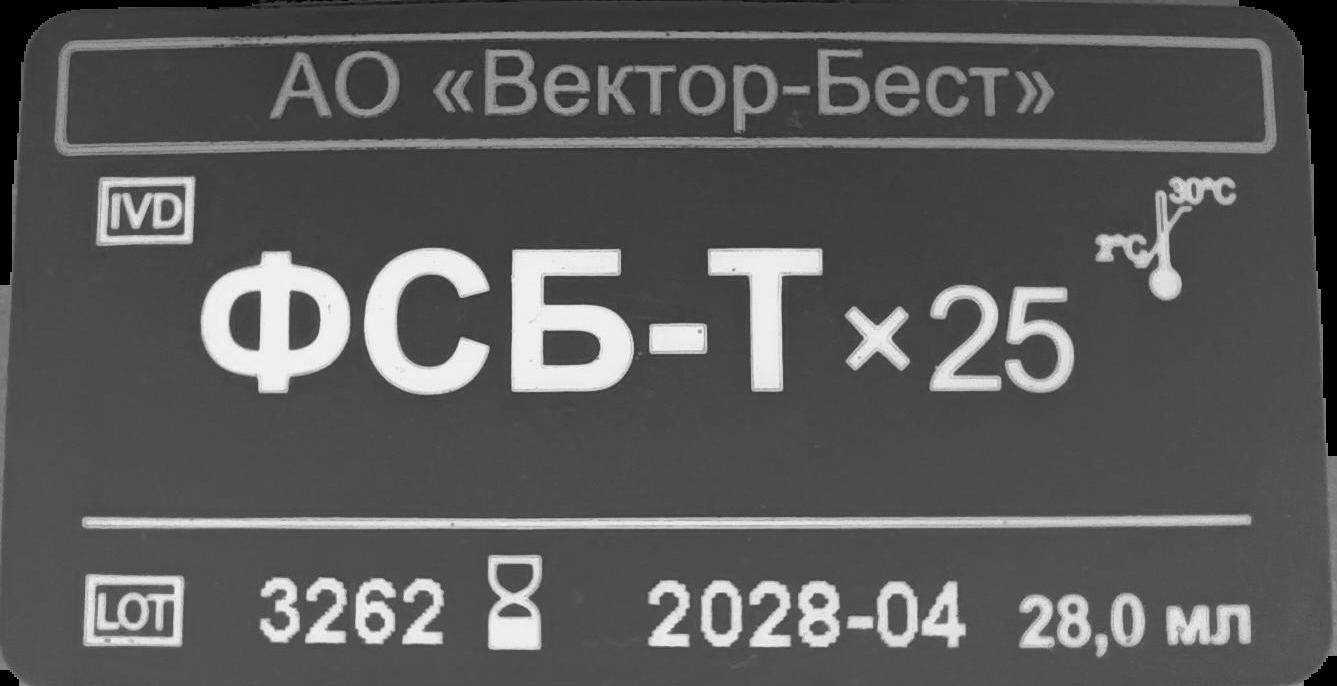something: (1092, 171, 1242, 308), (78, 569, 194, 650), (95, 170, 193, 248), (481, 553, 547, 657)
text: (196, 243, 1082, 411), (268, 39, 1064, 139), (643, 576, 968, 652), (1016, 589, 1256, 661), (254, 571, 447, 648)
